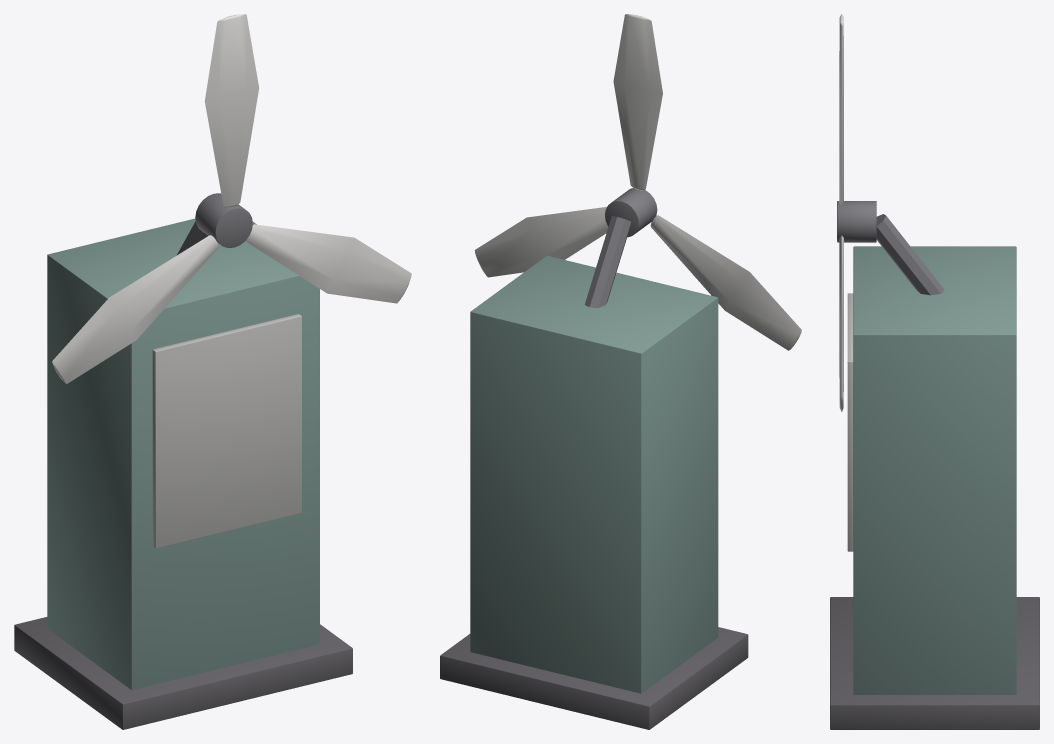
Rendered from perk_trade_winds.gltf.
3 views of the same model, side by side, from view 1: azimuth 30°, elevation 25°; view 2: azimuth 150°, elevation 25°; view 3: azimuth 270°, elevation 25° (orthographic). The views are drawn at different scales.
Parts seen in each view (by area): view 1: Body, Glow, Spin; view 2: Body, Spin; view 3: Body, Spin, Glow.
Boxes of the visible parts, x1,y1,x2,y2 form: Body: [14, 218, 352, 729]; Glow: [152, 314, 301, 548]; Spin: [52, 14, 411, 383]; Body: [440, 216, 748, 729]; Spin: [474, 14, 801, 350]; Body: [830, 214, 1039, 729]; Spin: [837, 14, 876, 411]; Glow: [847, 293, 853, 551].
Bounding box in the file's own units: 1.72 × 3.11 × 0.9.
